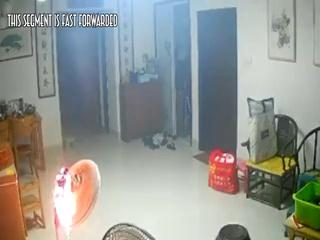Fire: (49, 140, 86, 235)
